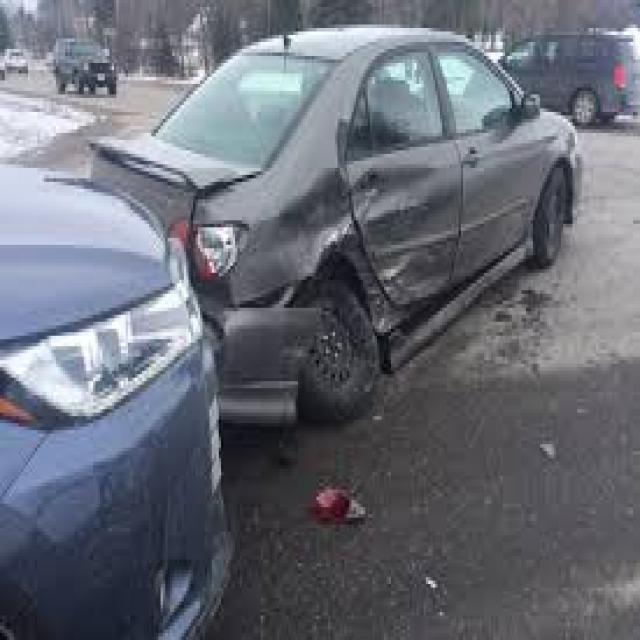accident: (2, 3, 570, 640)
